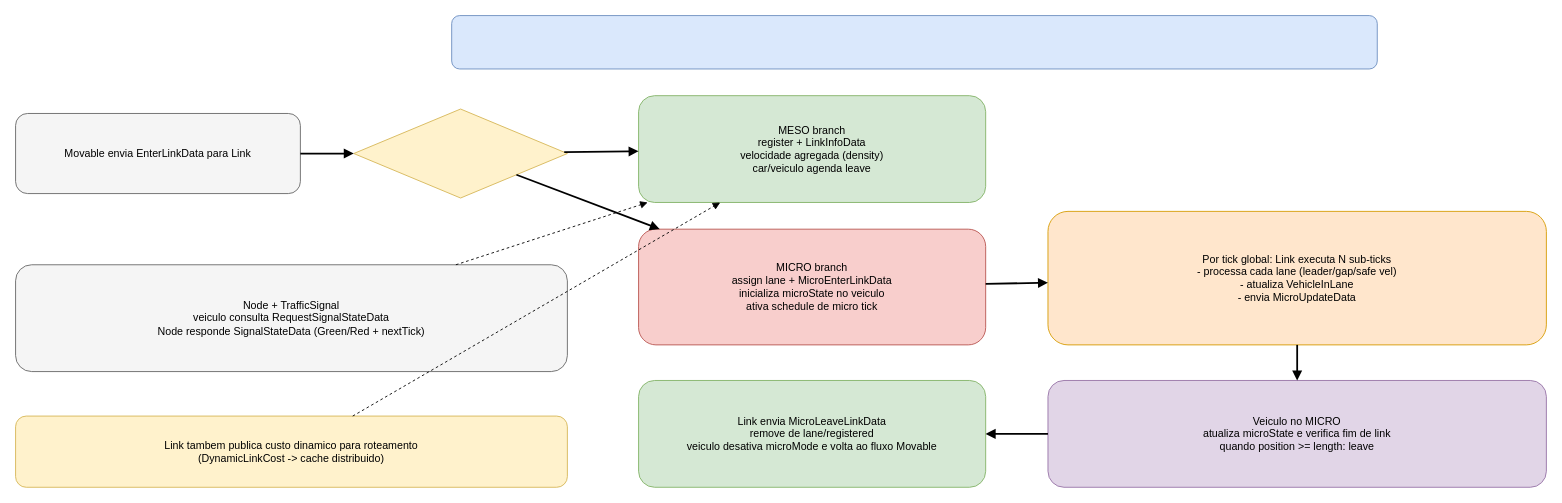
The diagram is 1562 pixels wide and 503 high, and some of its shapes have lost their labels. Here are the shapes that lost their labels. From the top down, the box of each, then its label:
(451, 15, 1377, 69): Fluxo Hibrido por Link (Car/Bus/Bicycle/Motorcycle)
(353, 108, 567, 198): Link verifica simulationMode
